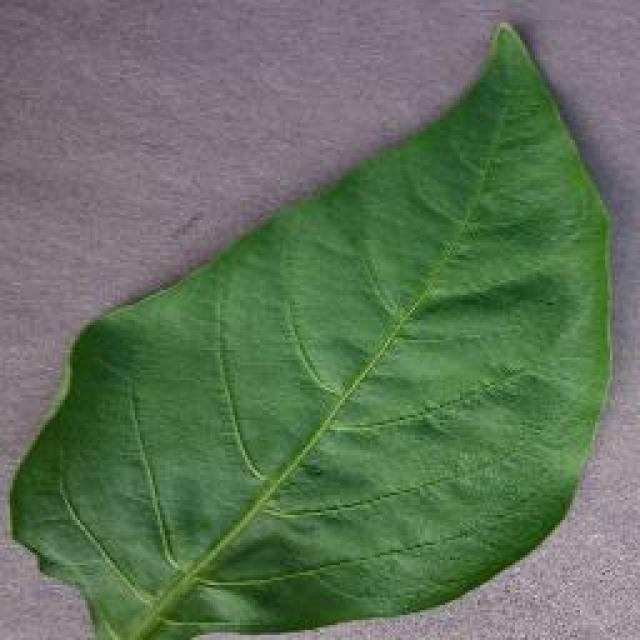Leaf: (43, 99, 604, 601)
